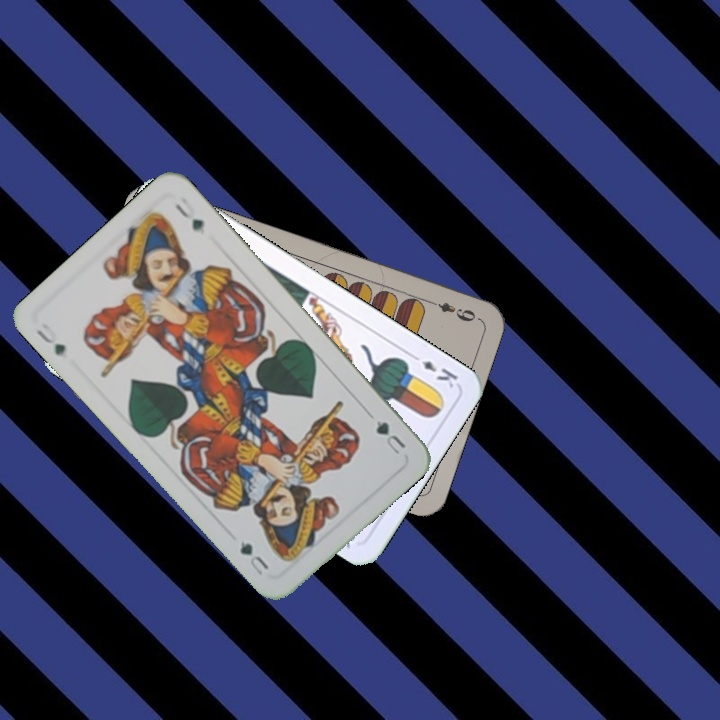E9: (423, 296, 481, 325)
EK: (406, 349, 461, 391)
GU: (372, 416, 409, 457), (31, 322, 69, 360)
